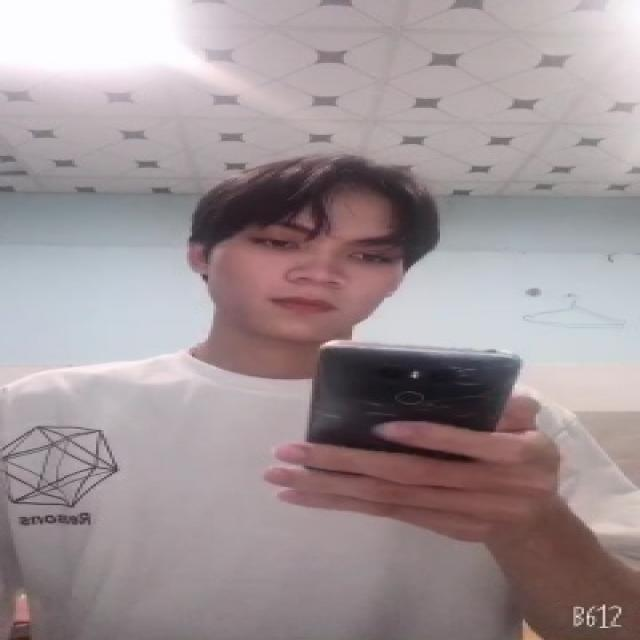Phone: (303, 336, 525, 466)
